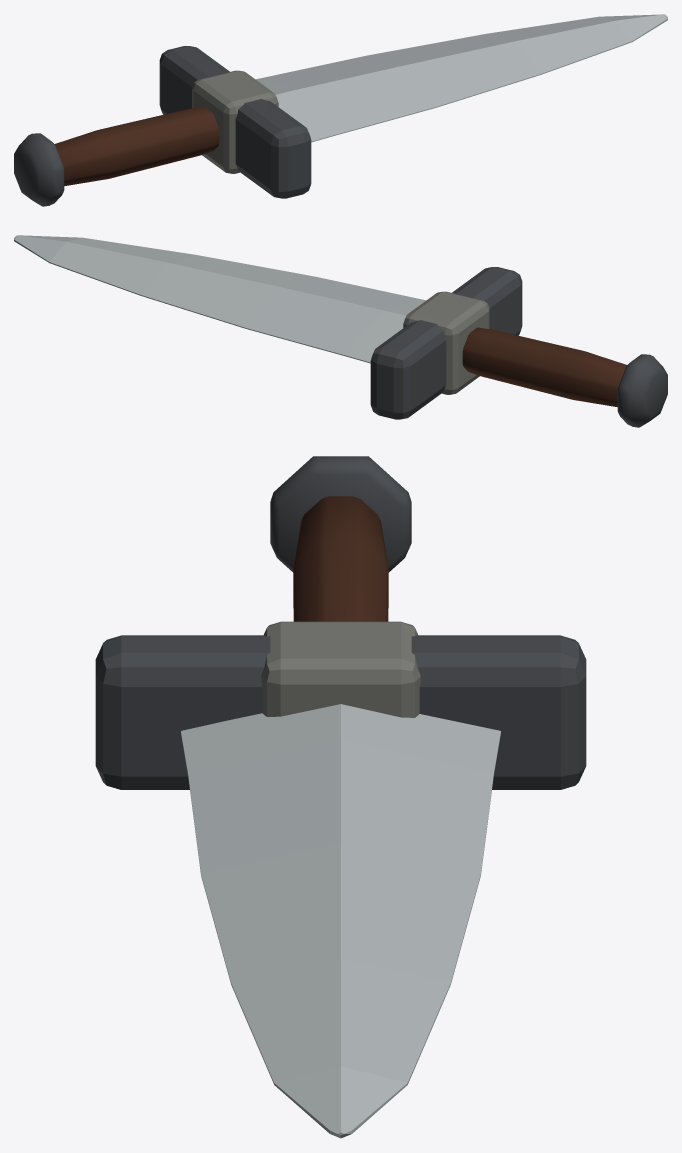
The model's file is thief-sword.glb.
3 renders of one model, top to bottom at view 1: azimuth 30°, elevation 25°; view 2: azimuth 150°, elevation 25°; view 3: azimuth 270°, elevation 25°, orthographic. The views are drawn at different scales.
Parts seen in each view (by area): view 1: ThiefSwordBlade, ThiefSwordGuard, ThiefSwordGrip, ThiefSwordBoss, ThiefSwordPommel; view 2: ThiefSwordBlade, ThiefSwordGuard, ThiefSwordGrip, ThiefSwordBoss, ThiefSwordPommel; view 3: ThiefSwordBlade, ThiefSwordGuard, ThiefSwordBoss, ThiefSwordGrip, ThiefSwordPommel.
Boxes of the visible parts, bbox=[...] form: ThiefSwordBlade: bbox=[256, 14, 667, 142]; ThiefSwordGuard: bbox=[159, 46, 311, 198]; ThiefSwordGrip: bbox=[55, 106, 219, 185]; ThiefSwordBoss: bbox=[192, 70, 278, 173]; ThiefSwordPommel: bbox=[14, 133, 64, 206]; ThiefSwordBlade: bbox=[14, 235, 425, 363]; ThiefSwordGuard: bbox=[370, 267, 522, 419]; ThiefSwordGrip: bbox=[462, 327, 626, 406]; ThiefSwordBoss: bbox=[403, 291, 489, 394]; ThiefSwordPommel: bbox=[617, 354, 667, 427]; ThiefSwordBlade: bbox=[181, 704, 500, 1138]; ThiefSwordGuard: bbox=[95, 635, 586, 789]; ThiefSwordBoss: bbox=[261, 621, 420, 717]; ThiefSwordGrip: bbox=[293, 496, 388, 621]; ThiefSwordPommel: bbox=[270, 456, 411, 572].
Size of the model in its own units: 0.689 by 0.074 by 0.228.
